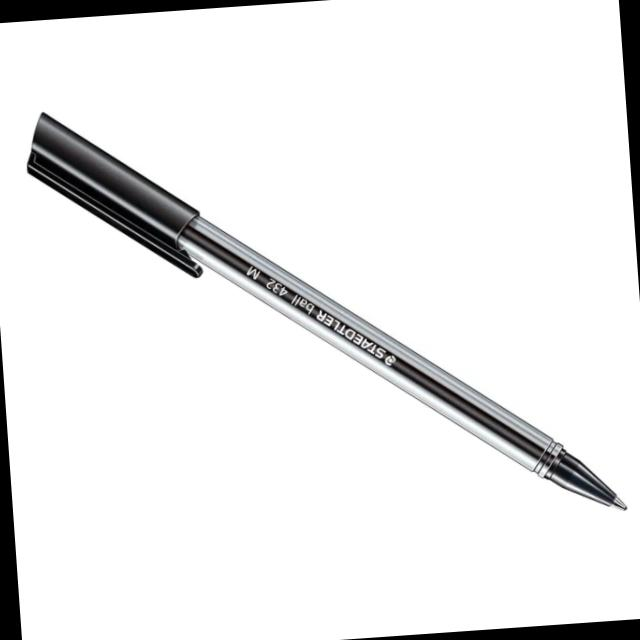pen: (0, 62, 640, 547)
